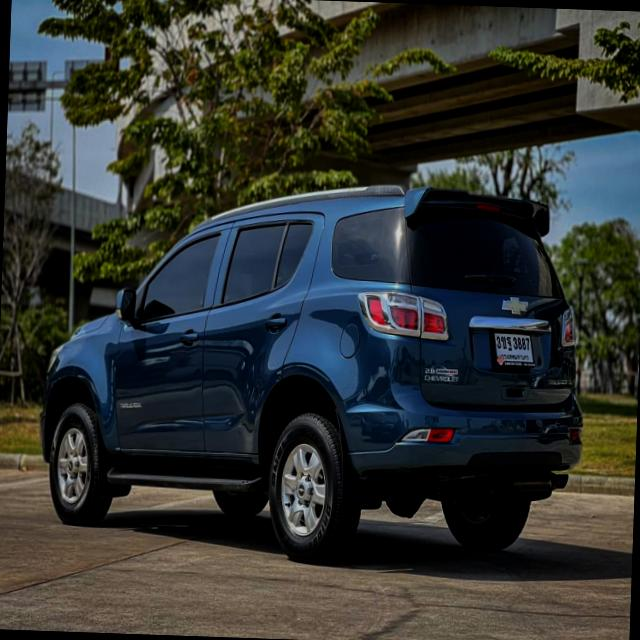license_plate: (488, 328, 538, 371)
